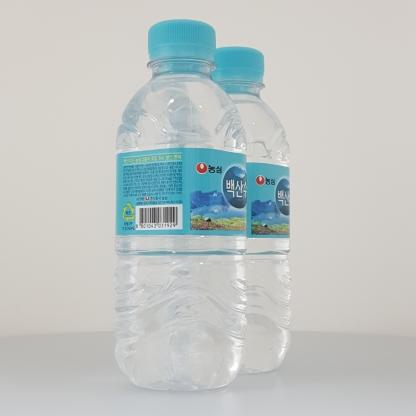-----330ML: (114, 19, 248, 391), (195, 46, 291, 374)
